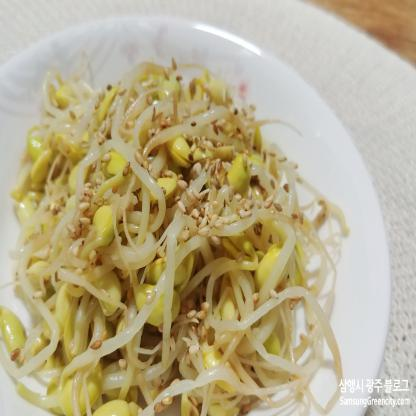bean sprouts: (58, 90, 324, 396)
